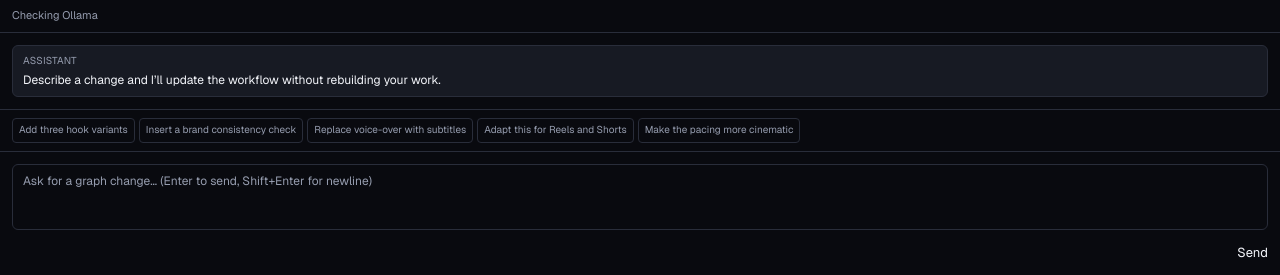
Test: CopilotPanel › fills the composer from a suggestion without sending
Click the button with test id "copilot-suggestion-0". click: (73, 131)
box: [12, 118, 135, 143]
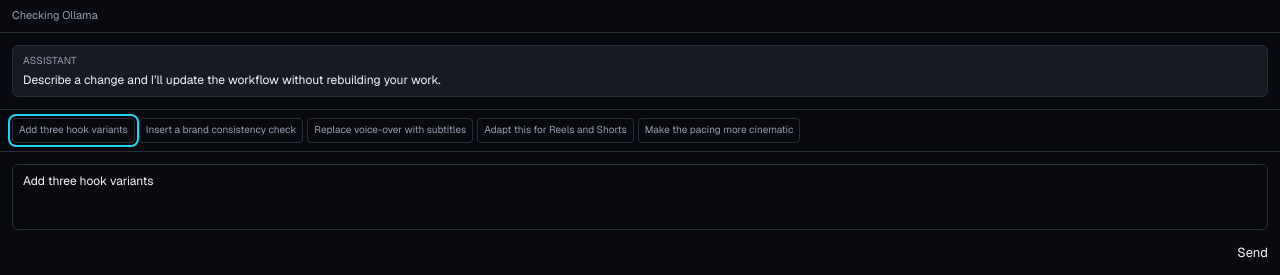
Check: the text box with test id "copilot-composer" holds "Add three hook variants", box [12, 164, 1268, 230]
